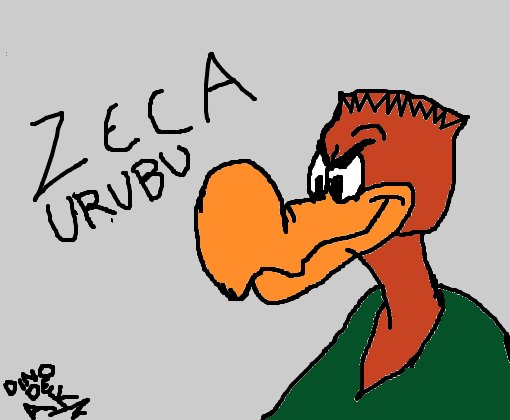urubu: (159, 43, 505, 420)
